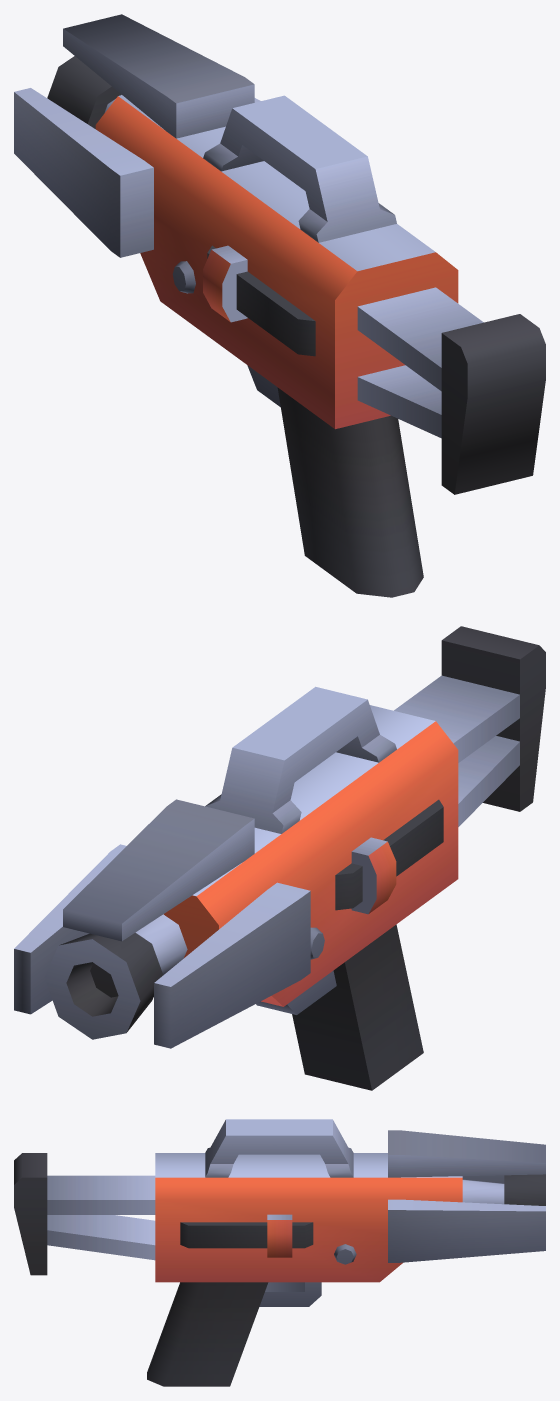
Rendered from blaster-n.glb.
3 renders of one model, top to bottom at view 1: azimuth 30°, elevation 25°; view 2: azimuth 150°, elevation 25°; view 3: azimuth 270°, elevation 25°, orthographic. The views are drawn at different scales.
Parts seen in each view (by area): view 1: blaster-n; view 2: blaster-n; view 3: blaster-n.
Part boxes in pixels (left/top/right/bottom): blaster-n: left=14, top=14, right=545, bottom=597; blaster-n: left=14, top=626, right=545, bottom=1090; blaster-n: left=14, top=1119, right=545, bottom=1386.
Bounding box in the file's own units: 0.17 × 0.33 × 0.6401.
1 material, 1 textured.
